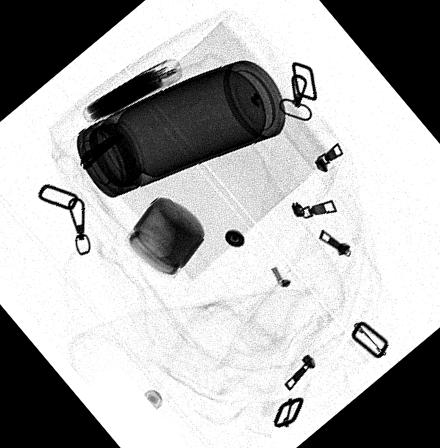Powerbank: (80, 58, 183, 124)
